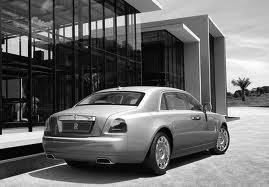car: (44, 83, 232, 176)
